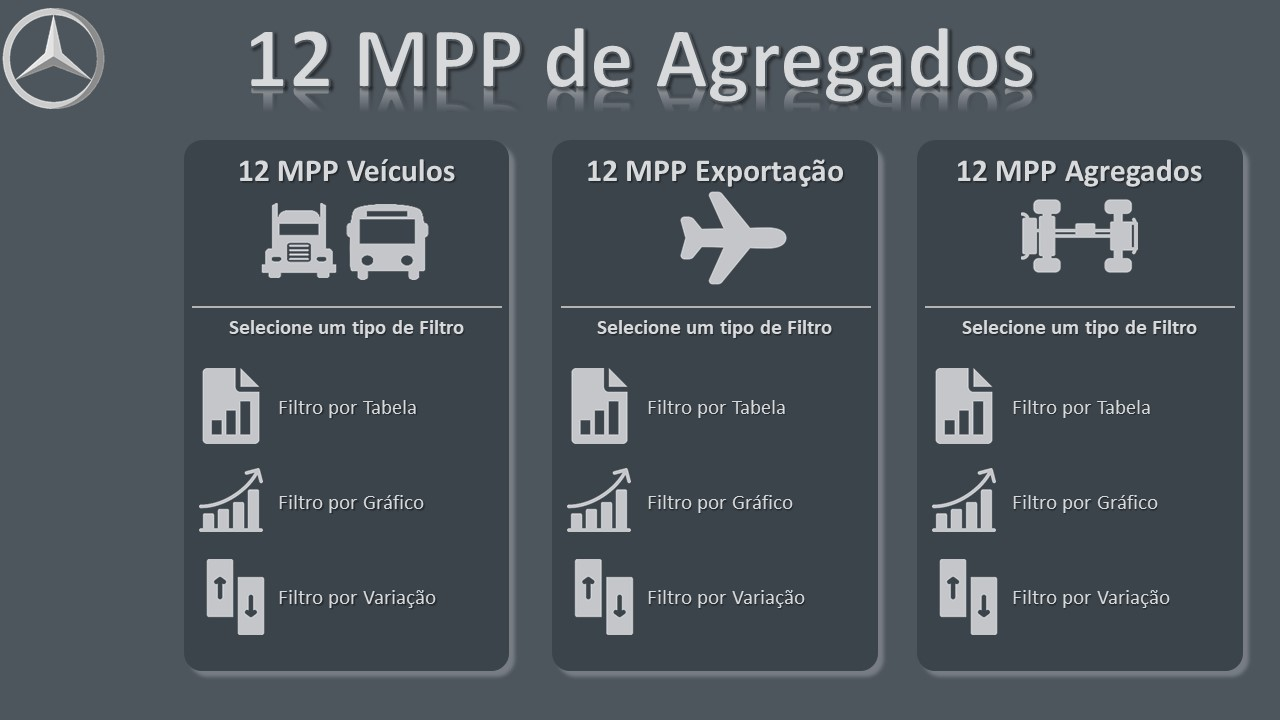

This screenshot's page, from the dashboard's own definition file:
{"tool":"powerbi","page":{"name":"HomePage","canvas":[1280,720],"ordinal":0},"visuals":[{"type":"actionButton","box":[198.9,360.1,229,86.7],"z":0},{"type":"actionButton","box":[198.9,461.9,229,72.6],"z":1000},{"type":"actionButton","box":[198.9,555.2,240.4,80.1],"z":2000},{"type":"actionButton","box":[570.3,360.1,229,86.7],"z":3000},{"type":"actionButton","box":[566.5,461.9,229,72.6],"z":4000},{"type":"actionButton","box":[570.3,555.2,240.4,80.1],"z":5000},{"type":"actionButton","box":[934.1,360.1,229,86.7],"z":6000},{"type":"actionButton","box":[931.3,461.9,229,72.6],"z":7000},{"type":"actionButton","box":[936,555.2,240.4,80.1],"z":8000}]}

Visuals, with their boxes in screenshot pixels (x1, y1, x2, y2), scaled from the page's 1280x720 canvas onto the 1280x720 screenshot:
actionButton: select_region(199, 360, 428, 447)
actionButton: select_region(199, 462, 428, 534)
actionButton: select_region(199, 555, 439, 635)
actionButton: select_region(570, 360, 799, 447)
actionButton: select_region(566, 462, 796, 534)
actionButton: select_region(570, 555, 811, 635)
actionButton: select_region(934, 360, 1163, 447)
actionButton: select_region(931, 462, 1160, 534)
actionButton: select_region(936, 555, 1176, 635)
